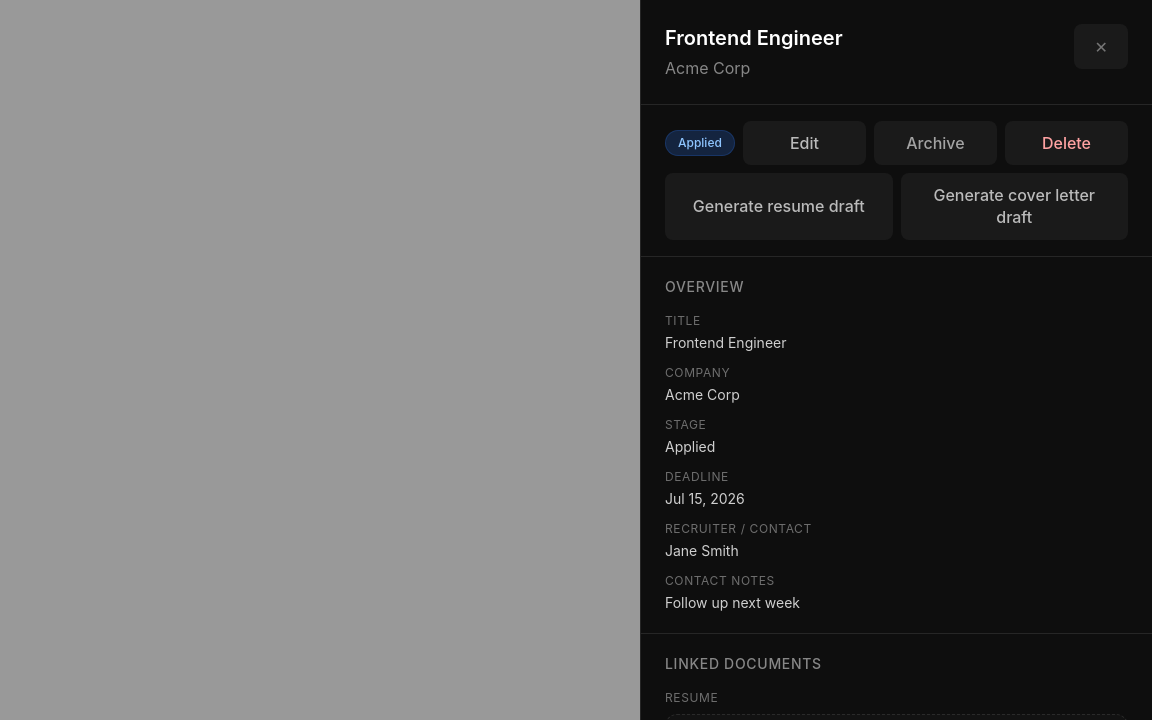
JobDetailPanel › shows rewrite controls after a draft is generated
Check: the button "improve draft" is not shown
Click the button "Generate resume draft".
click(779, 206)  # box x1=665 y1=173 x2=892 y2=240
(page scrolled)
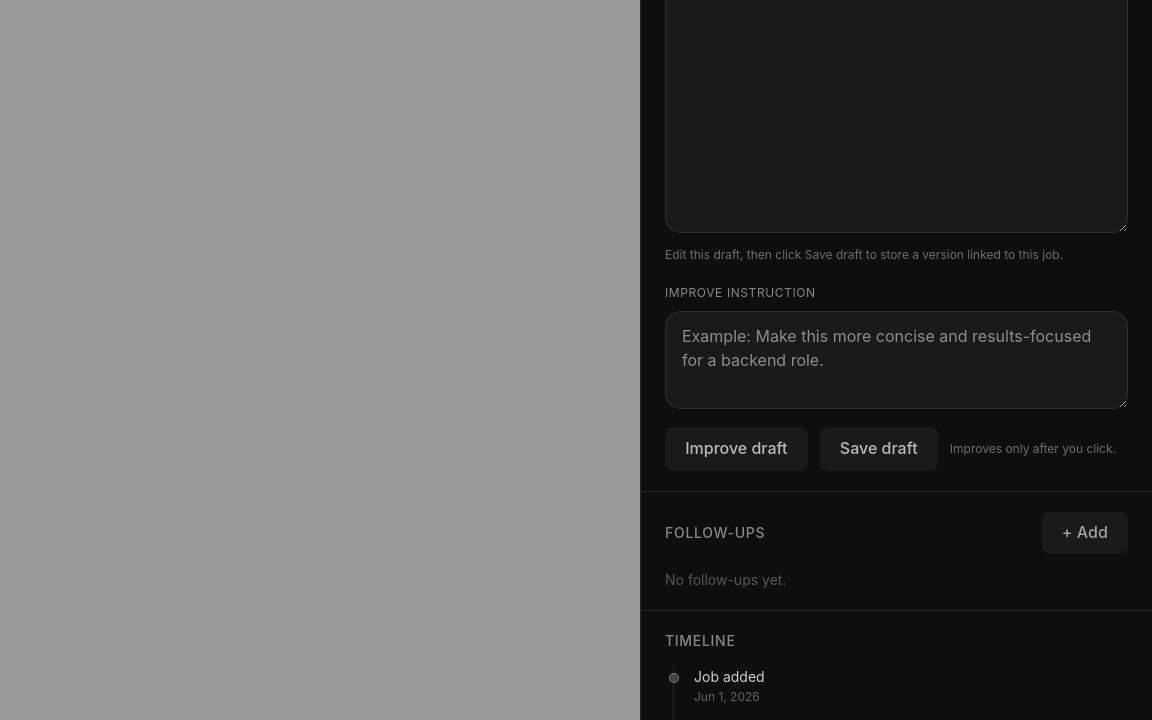
Check: the button "Improve draft" is shown, box x1=665 y1=427 x2=808 y2=471
Check: the text box named "rewrite instruction" is shown, box x1=665 y1=311 x2=1128 y2=409
